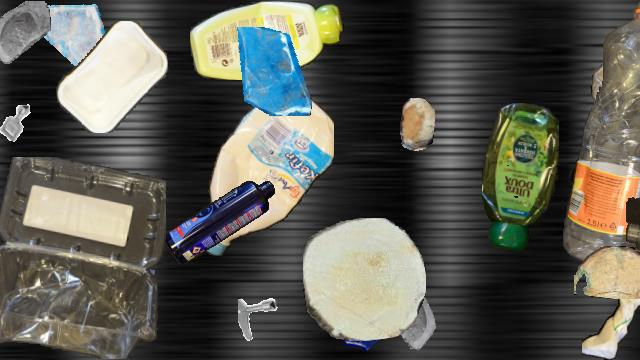glass: (228, 27, 316, 115), (79, 240, 155, 316), (373, 282, 449, 358), (35, 1, 107, 73), (333, 288, 395, 350), (0, 1, 50, 63)
metal: (238, 296, 298, 356), (0, 97, 42, 149)
plastic: (0, 157, 165, 359), (204, 86, 334, 260), (563, 1, 640, 265), (55, 21, 169, 133), (190, 1, 344, 79), (482, 103, 558, 251), (569, 111, 640, 247), (164, 181, 274, 263), (590, 40, 640, 212), (582, 275, 640, 359), (626, 170, 640, 292)
wood: (303, 218, 425, 340), (574, 246, 640, 298), (400, 98, 434, 150)
